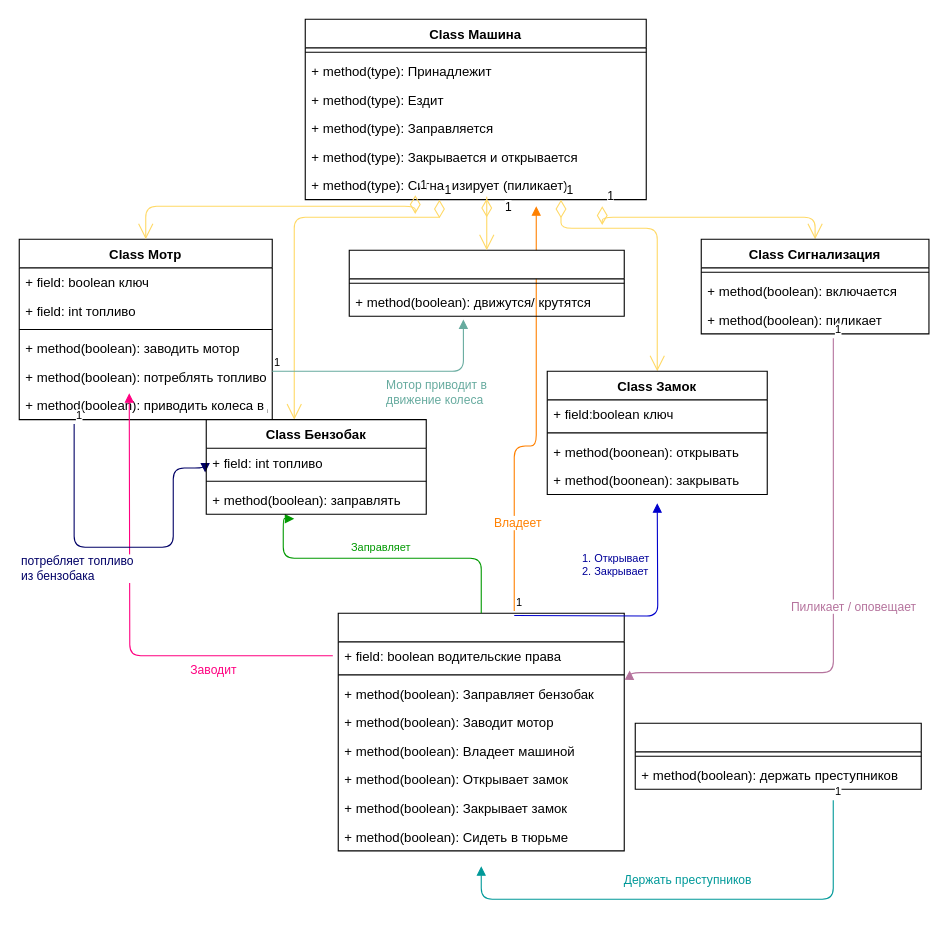
This 948x927 diagram has some shape labels left out. Each missing label, with the box of its shape:
Class Колеса: (348, 249, 624, 316)
Class Тюрьма: (634, 722, 921, 789)
Class Человек: (337, 612, 624, 851)
